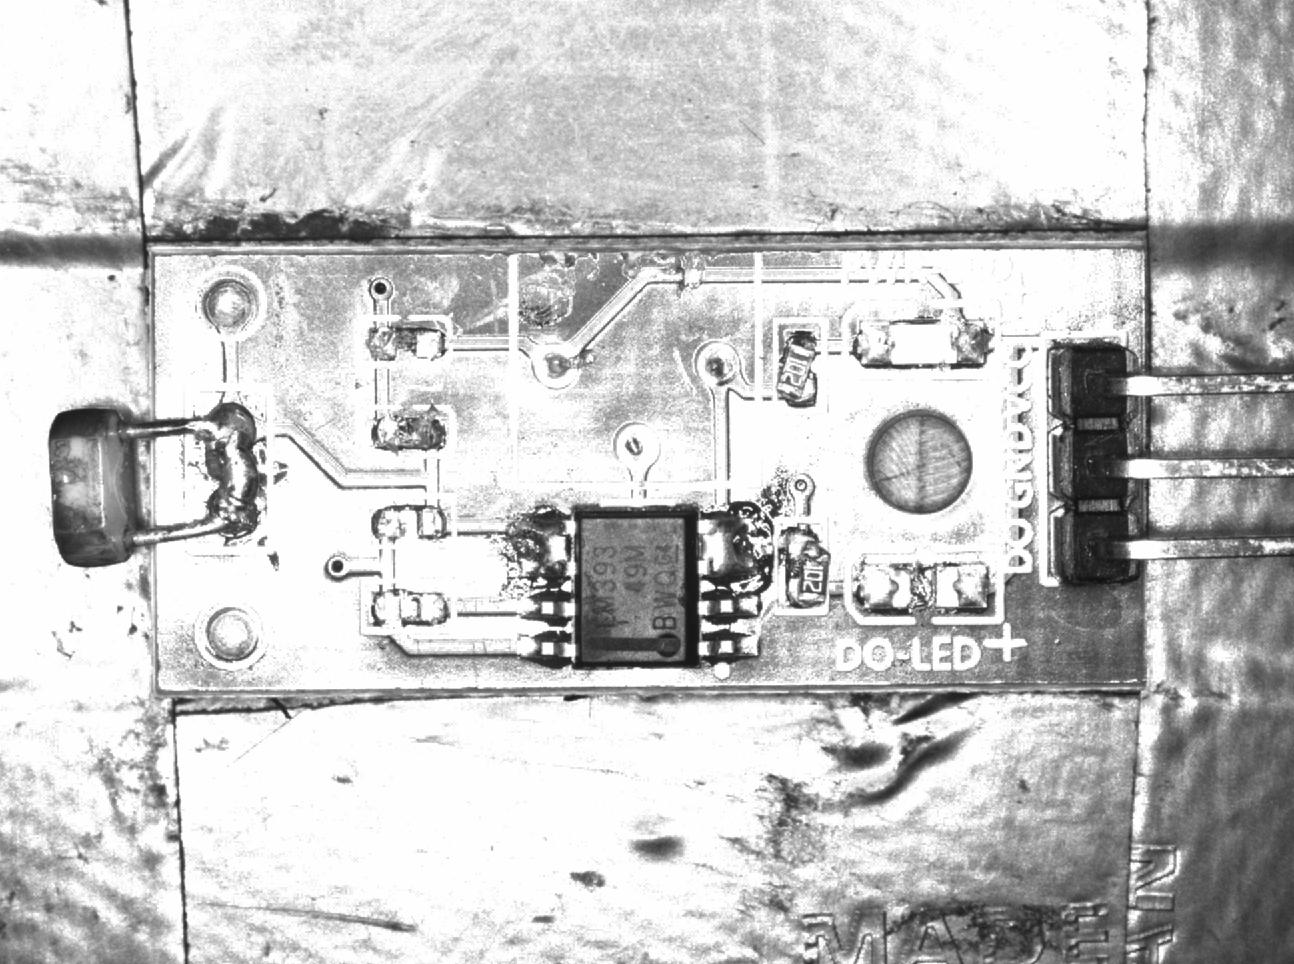bridge: (191, 387, 269, 552), (698, 502, 770, 590), (511, 509, 578, 586)
lifted: (777, 519, 833, 615), (773, 317, 823, 412)
miss: (360, 581, 460, 635), (358, 314, 453, 370), (365, 500, 456, 549), (363, 406, 450, 454)
